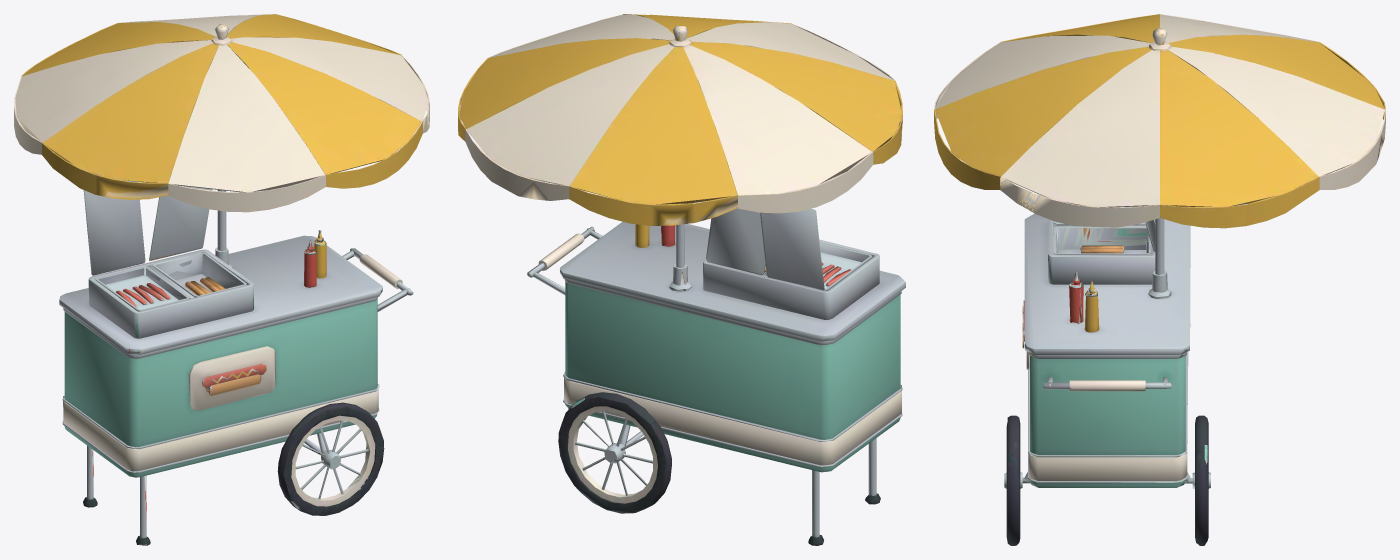
Rendered from hot-dog-cart.glb.
The picture shows the model from 3 angles, left to right: view 1: azimuth 30°, elevation 25°; view 2: azimuth 150°, elevation 25°; view 3: azimuth 270°, elevation 25°; orthographic projection. The views are drawn at different scales.
Visible parts, largest first — view 1: hot-dog-cart_body, hot-dog-cart_umbrella; view 2: hot-dog-cart_body, hot-dog-cart_umbrella; view 3: hot-dog-cart_umbrella, hot-dog-cart_body.
Part boxes in pixels (bbox=[...]): hot-dog-cart_body: bbox=[59, 180, 413, 545]; hot-dog-cart_umbrella: bbox=[14, 14, 429, 251]; hot-dog-cart_body: bbox=[527, 208, 905, 545]; hot-dog-cart_umbrella: bbox=[458, 14, 902, 267]; hot-dog-cart_umbrella: bbox=[934, 14, 1385, 274]; hot-dog-cart_body: bbox=[1004, 206, 1210, 545].
Size of the model in its own units: 1.73 by 2.06 by 1.73.
Materials: 2 (2 with a texture image).
